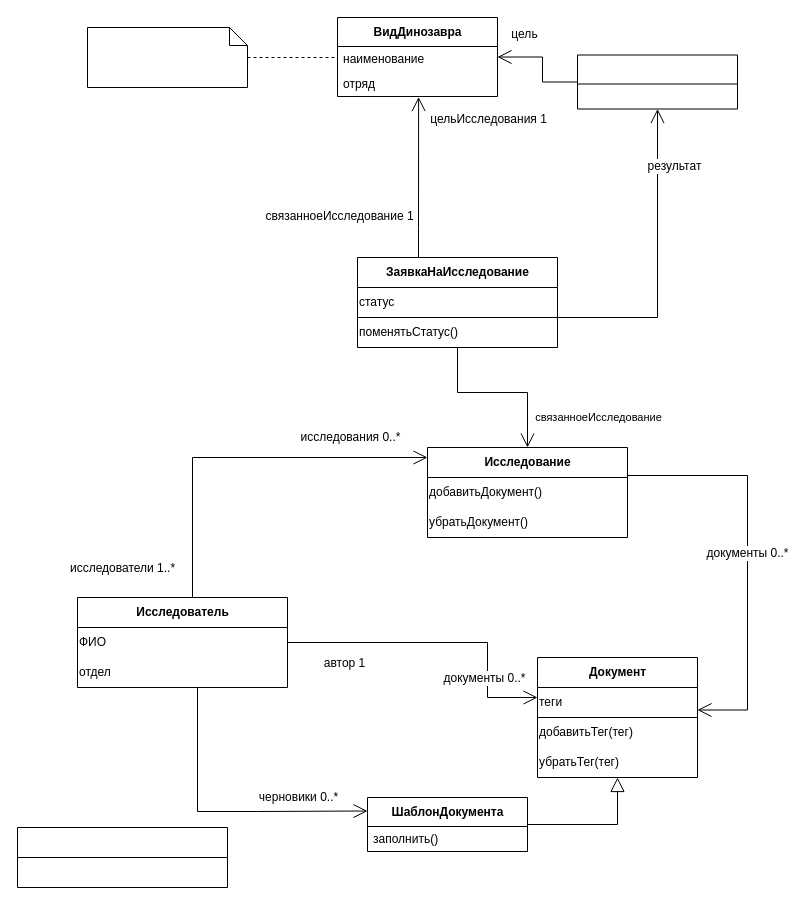
Some shapes in this 806 by 905 pixel diagram are drawn without their labels. Each missing label, with the centre of its shape:
Отряд: Хищные/Травоядные/Всеядные: [167,57]
РеестрШаблонов: [122,857]
ТехнологическаяКарта: [657,81]
